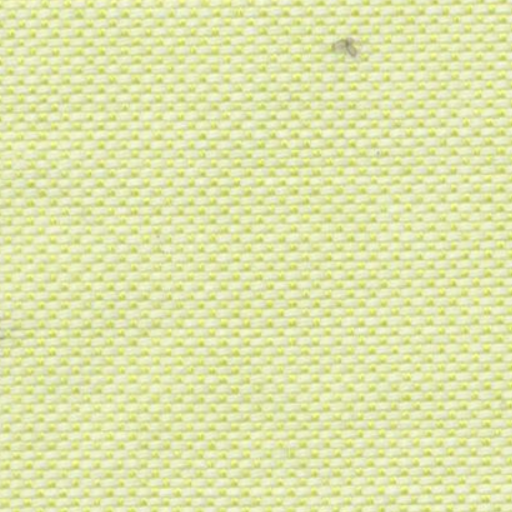WuZi: (314, 23, 377, 78)
